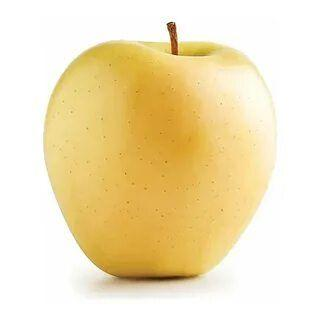Apple: (42, 43, 274, 275)
